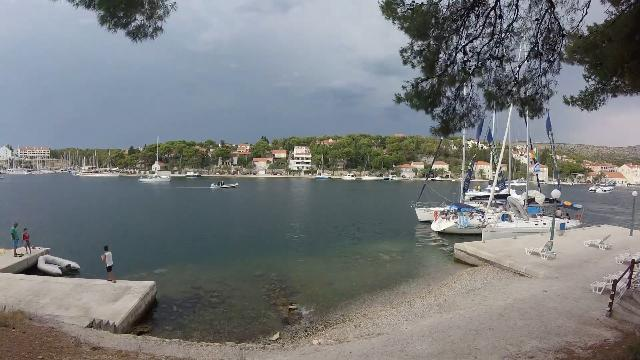Sailboat: (136, 171, 174, 185)
speedboat: (210, 178, 240, 190)
